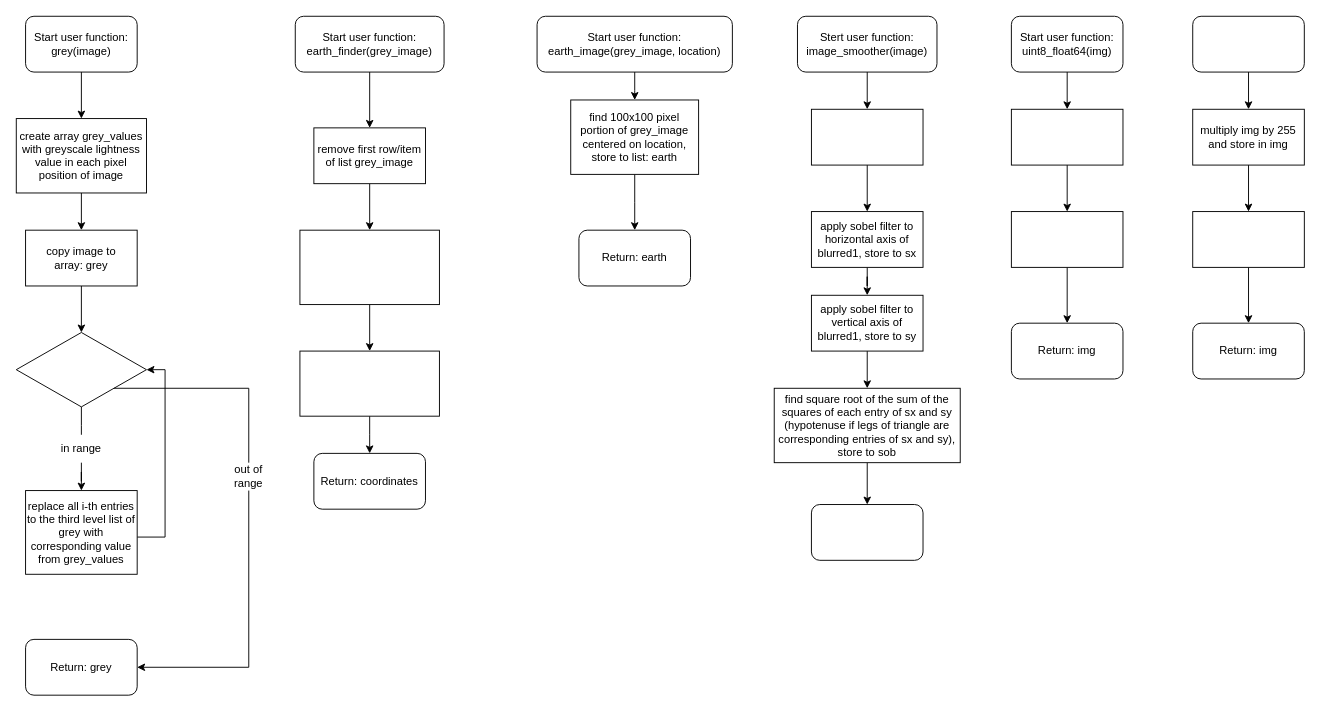
This 1321x711 diagram has some shape labels left out. The shapes that lost their labels are listed below. From the top down, each one's box as (x1, y1, x2, y2) in pixels, then its label:
(1192, 15, 1304, 72): Start user function: float64_uint8(img)
(810, 108, 923, 165): Apply gaussian filter to image, store to array: blurred1
(1010, 108, 1123, 165): divide img by 255 and store in img
(1010, 211, 1123, 267): Set type of img to float64
(1192, 211, 1304, 267): Set type of img to uint8
(299, 229, 439, 305): find max value of grey_image, store value to variable: brightest_spot
(15, 332, 146, 407): increment i throught the range 1-3
(299, 350, 439, 416): find index location of brightest_spot and store to list: coordinates
(810, 504, 923, 560): Return: sob
